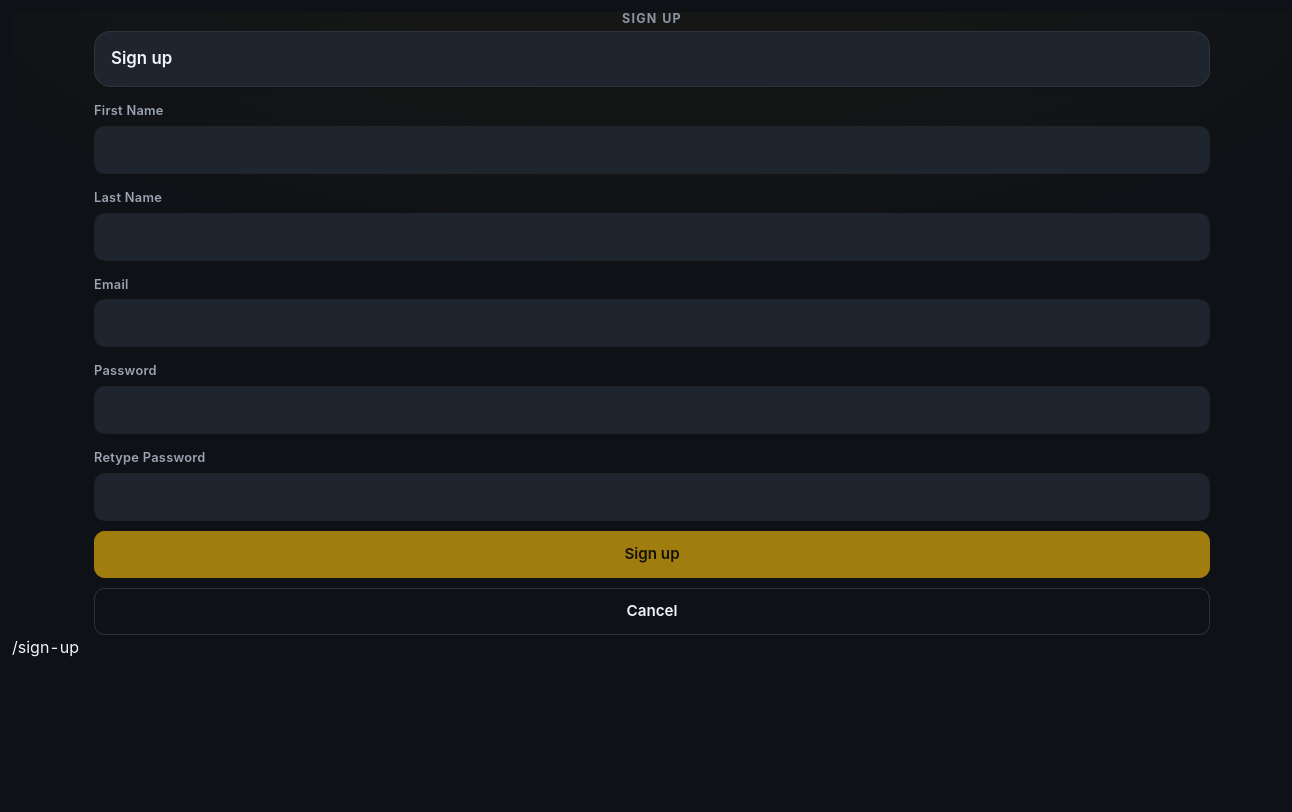
Scenario: SignUpScreen › shows the server's message for other failures
Type "Jane" into the field labelled "First Name" at (652, 150), box top-left (94, 126), bottom-right (1210, 174)
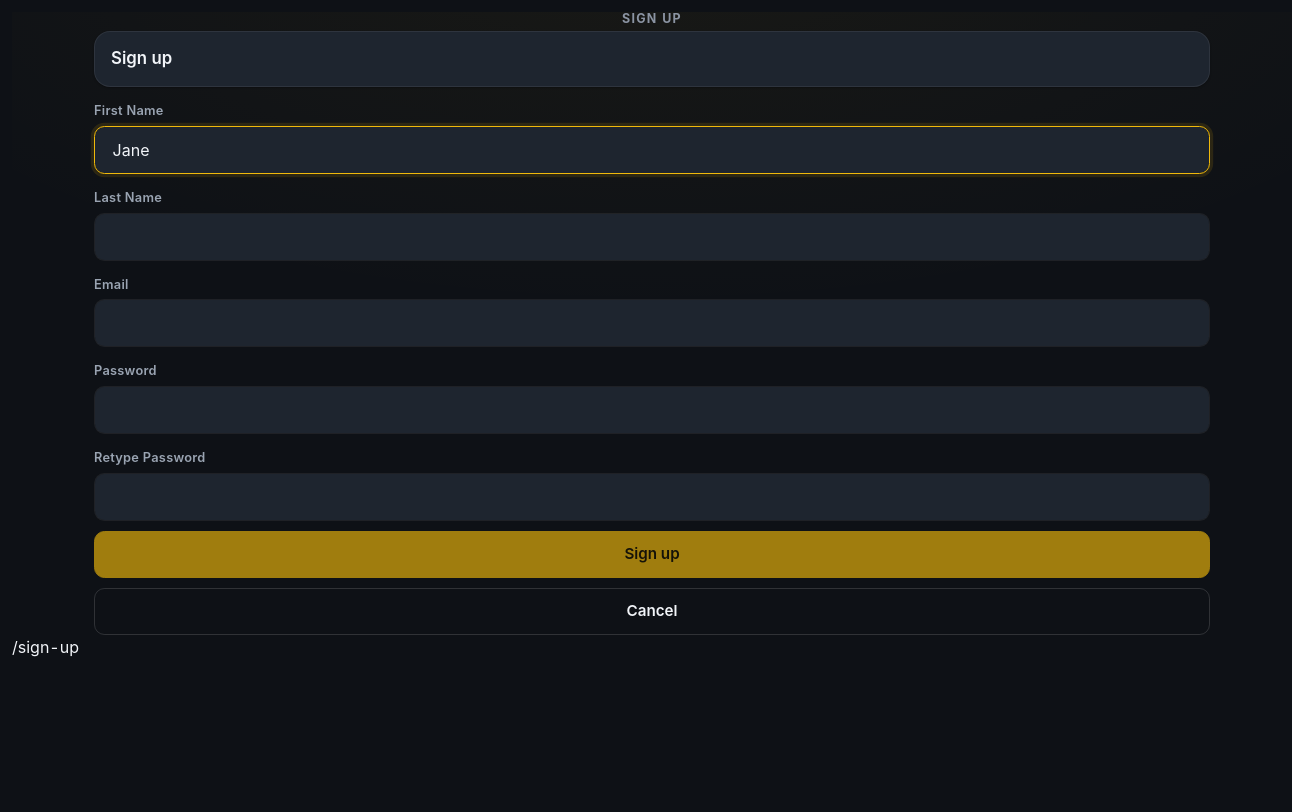
Type "Doe" into the field labelled "Last Name" at (652, 236), box top-left (94, 212), bottom-right (1210, 260)
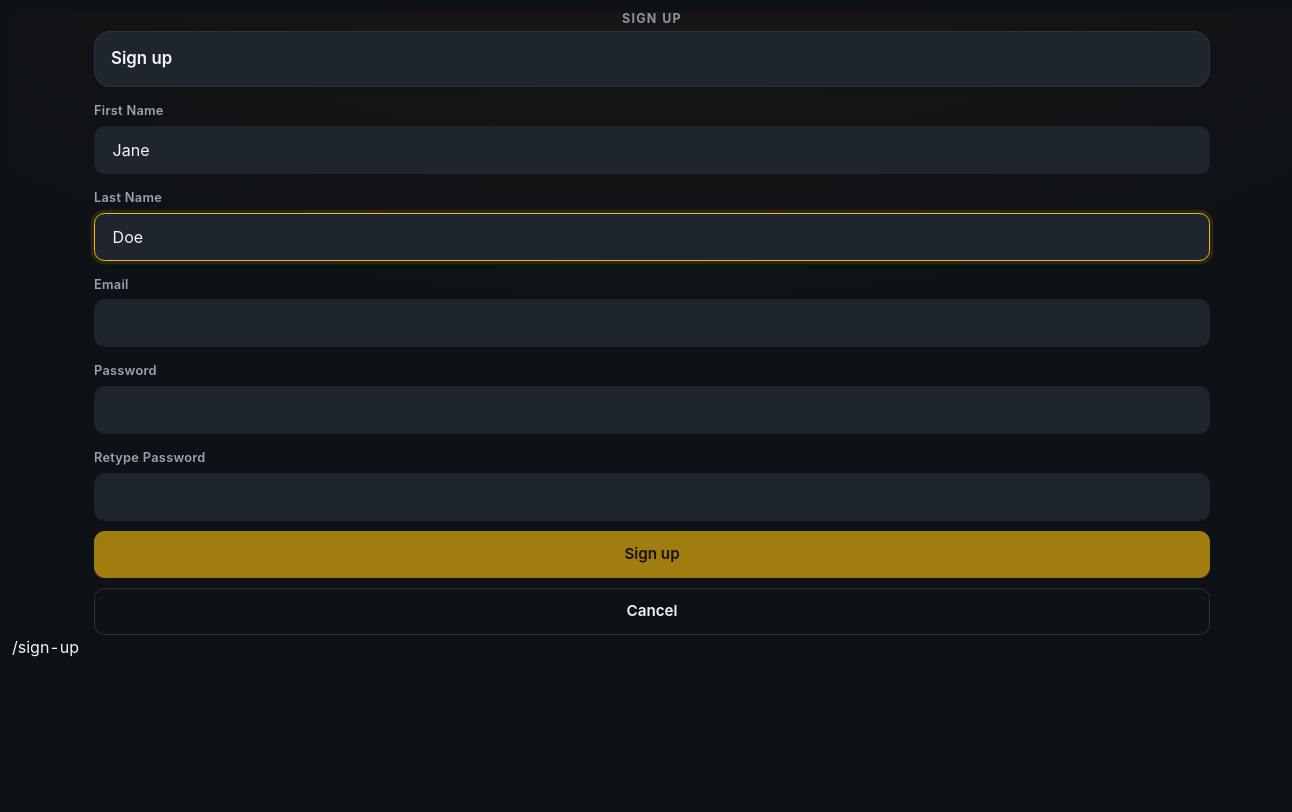
Type "jane@example.com" into the field labelled "Email" at (652, 323), box top-left (94, 299), bottom-right (1210, 347)
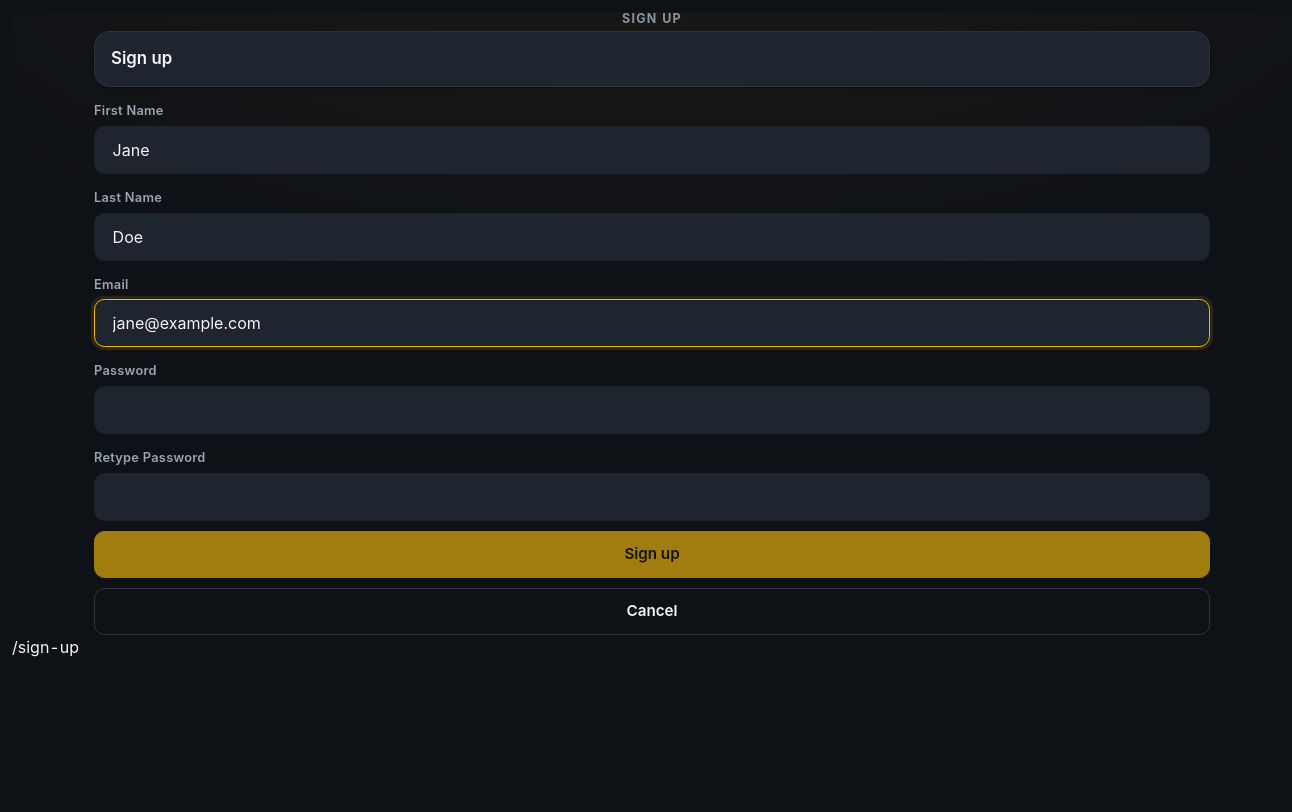
Type "hunter22!" into the password field labelled "Password" at (652, 410), box top-left (94, 386), bottom-right (1210, 434)
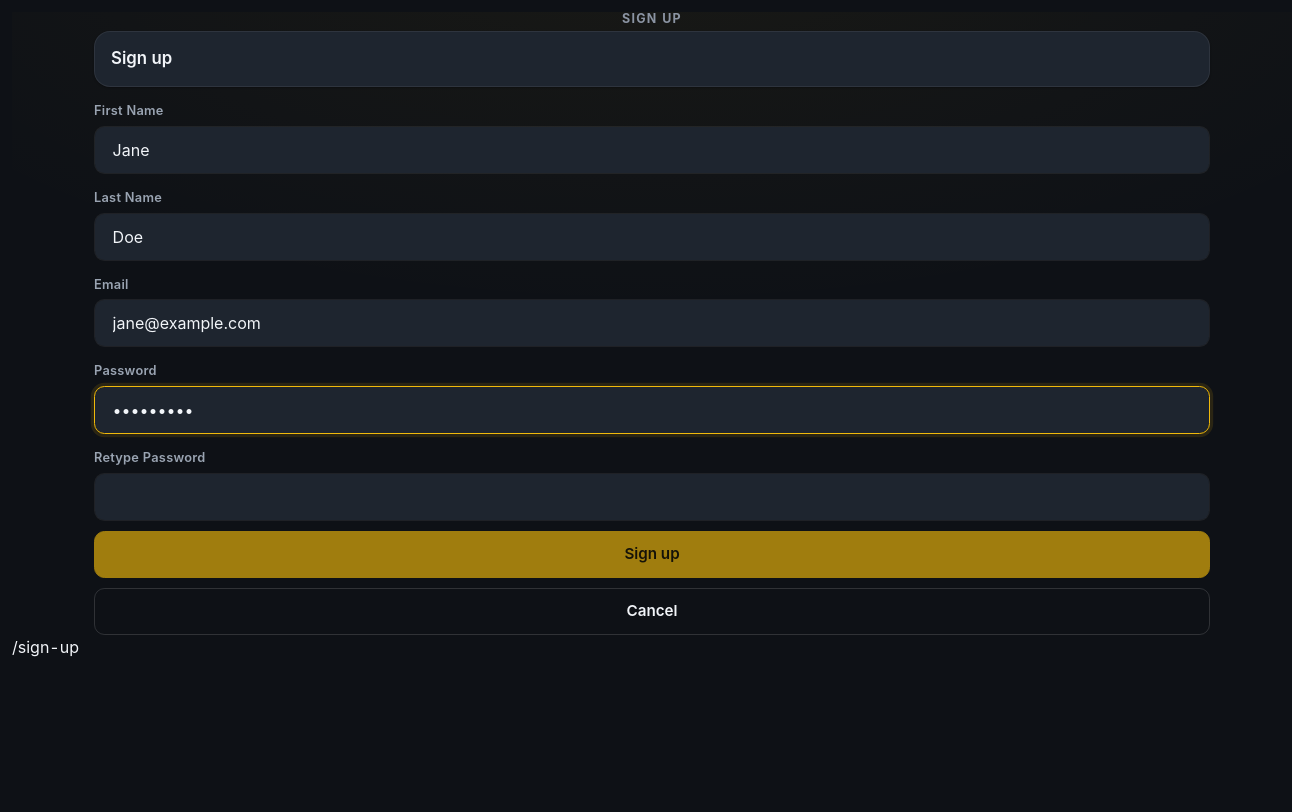
Type "hunter22!" into the password field labelled "Retype Password" at (652, 497), box top-left (94, 473), bottom-right (1210, 521)
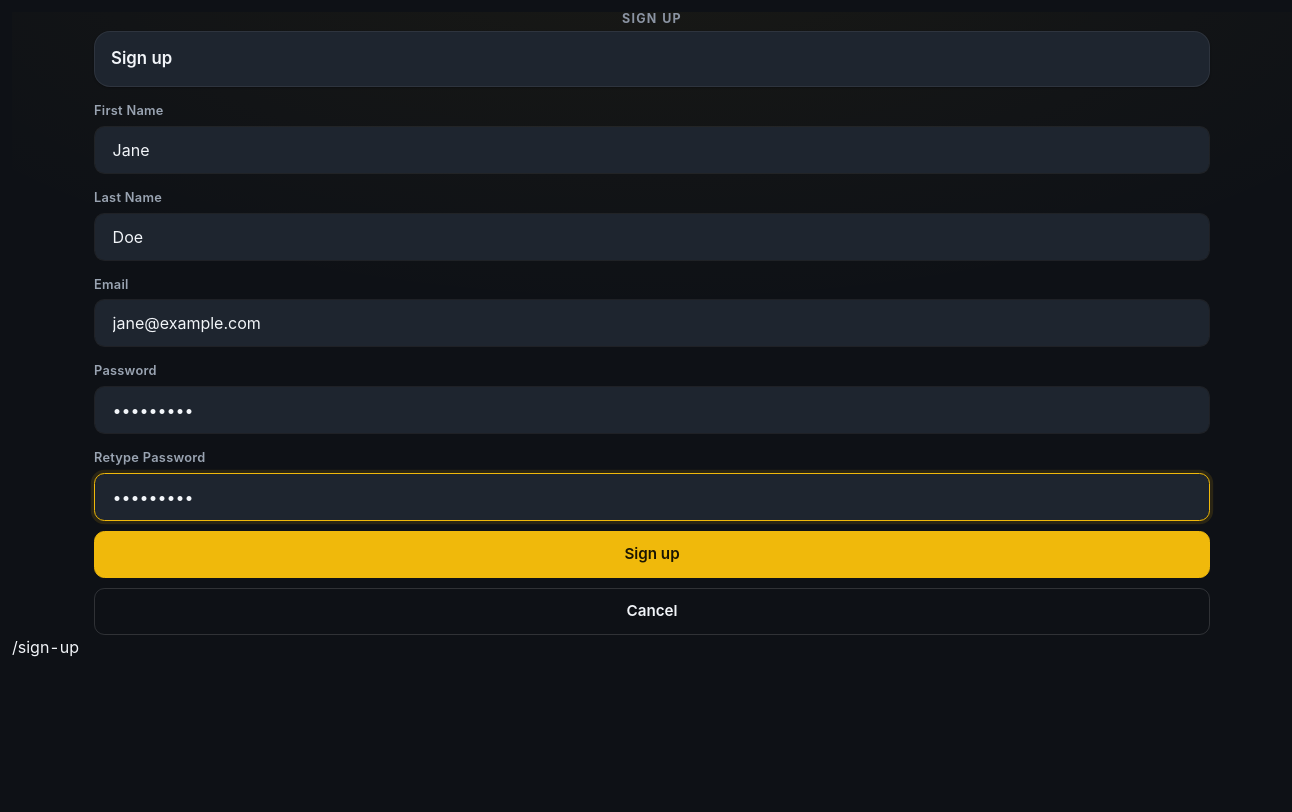
Click the button "Sign up" at (652, 554), box top-left (94, 531), bottom-right (1210, 578)
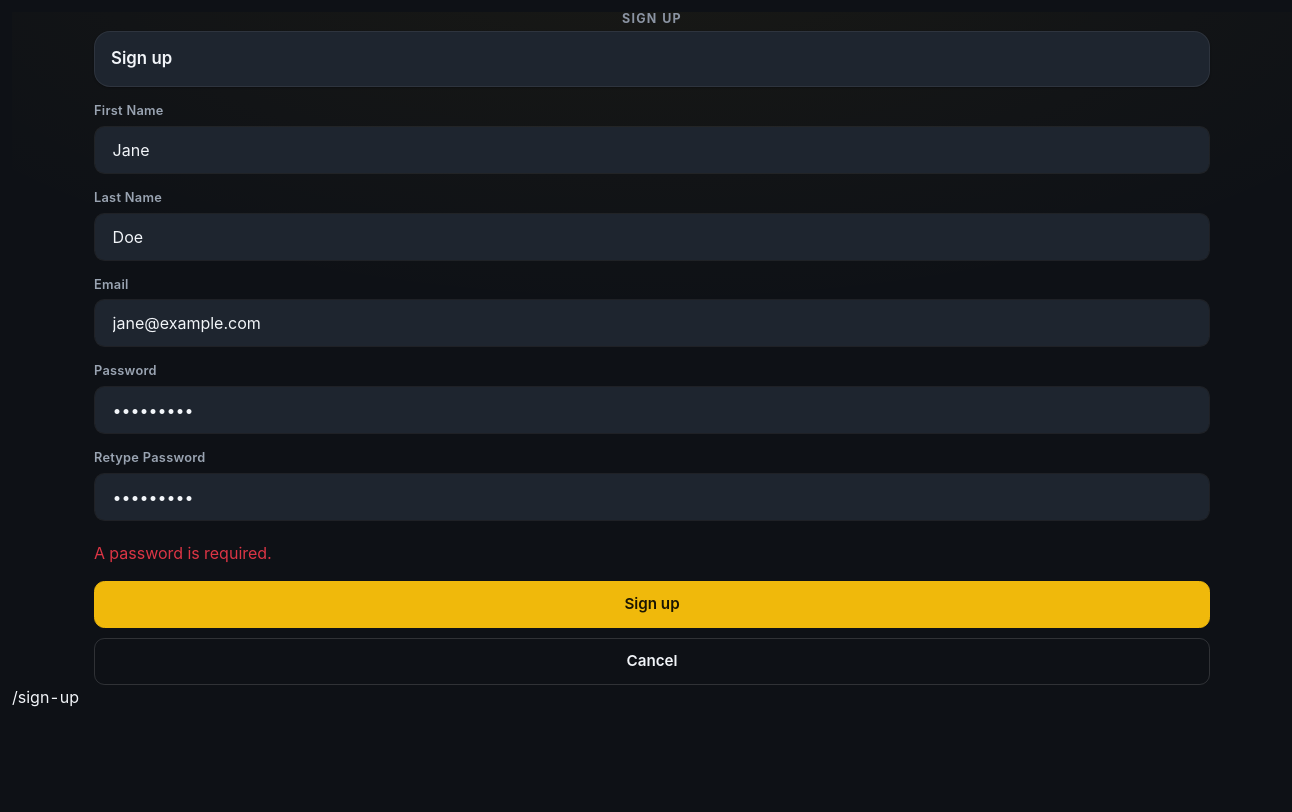
Expected: the text with test id "location" reads "/sign-up", top-left (12, 687), bottom-right (79, 707)
Now the message reads "A password is required.", box top-left (94, 543), bottom-right (271, 563)
